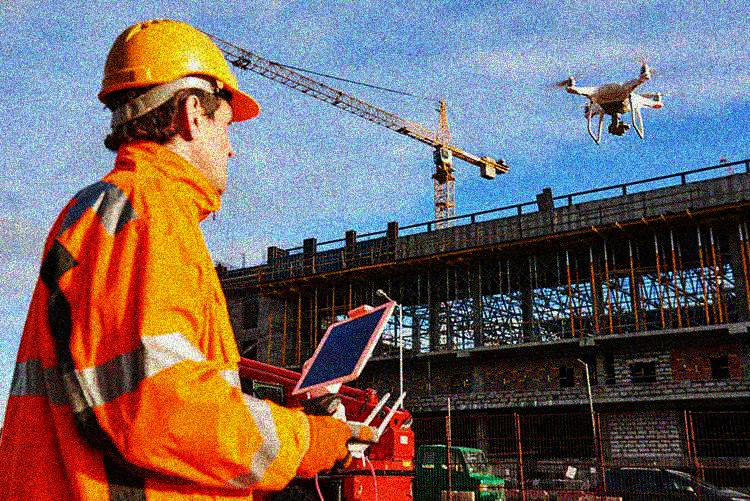helmet: (95, 17, 262, 196)
